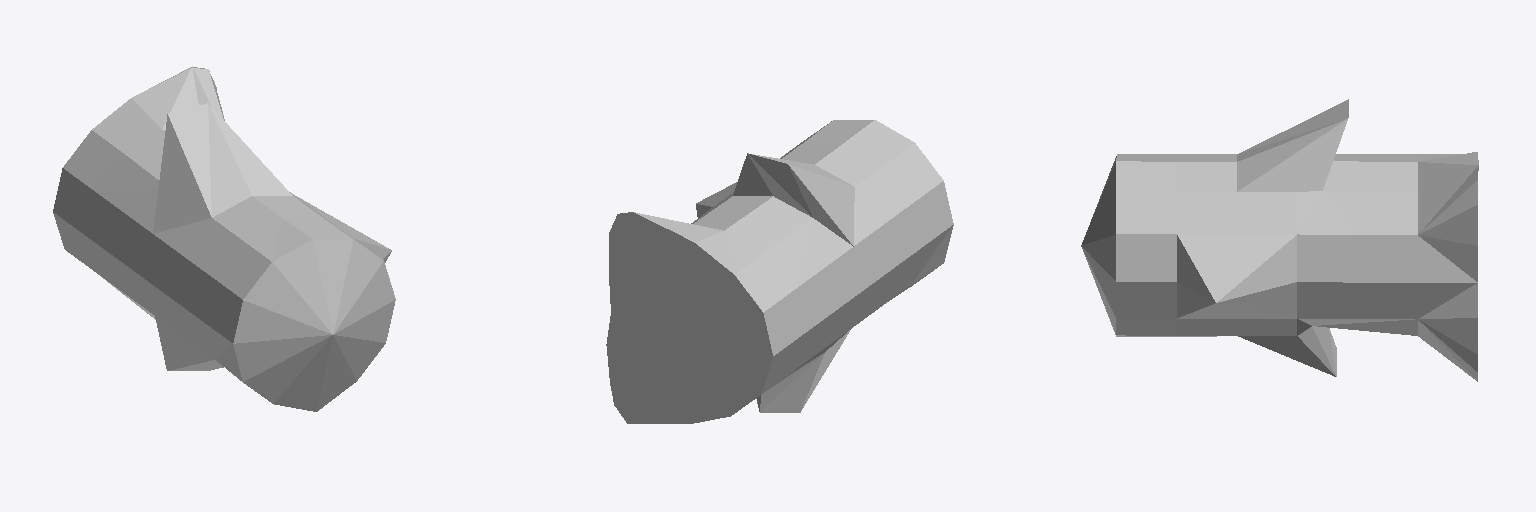
The model's file is penguin.obj.
3 views of the same model, side by side, from view 1: azimuth 30°, elevation 25°; view 2: azimuth 150°, elevation 25°; view 3: azimuth 270°, elevation 25° (orthographic).
Size of the model in its own units: 0.9273 by 1.11 by 1.53.